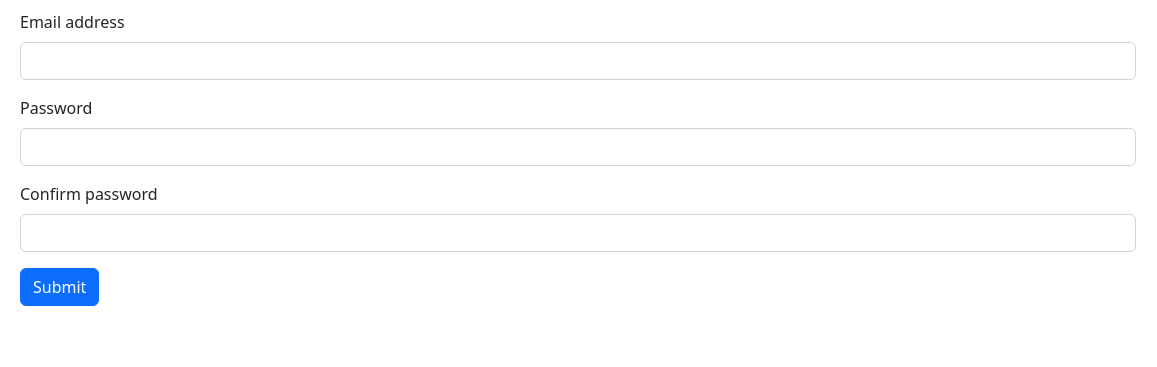
Scenario: App › error handling › should show error message on invalid password
Type "test@test.com" into the field labelled "Email address".
click(578, 61); type("test@test.com")  # box [20,42,1136,80]
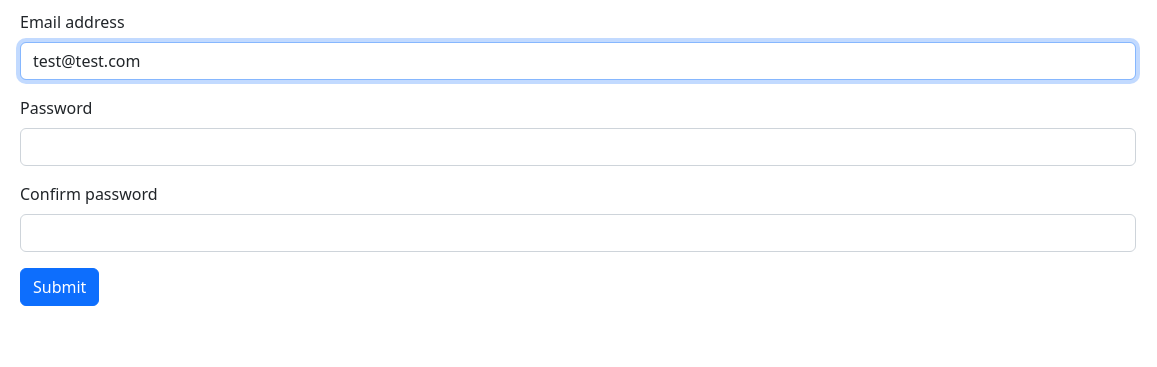
Type "four" into the password field labelled "Password".
click(578, 147); type("four")  # box [20,128,1136,166]
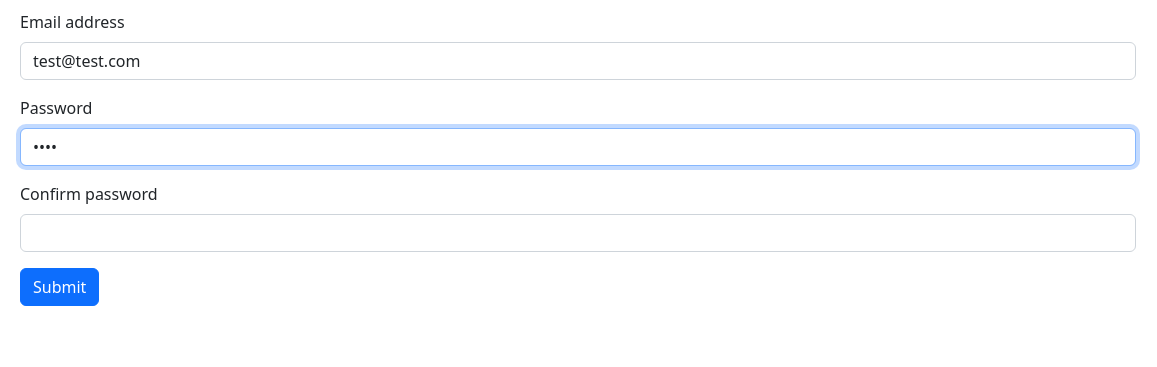
Click the button "Submit".
click(60, 287)  # box [20,268,99,306]
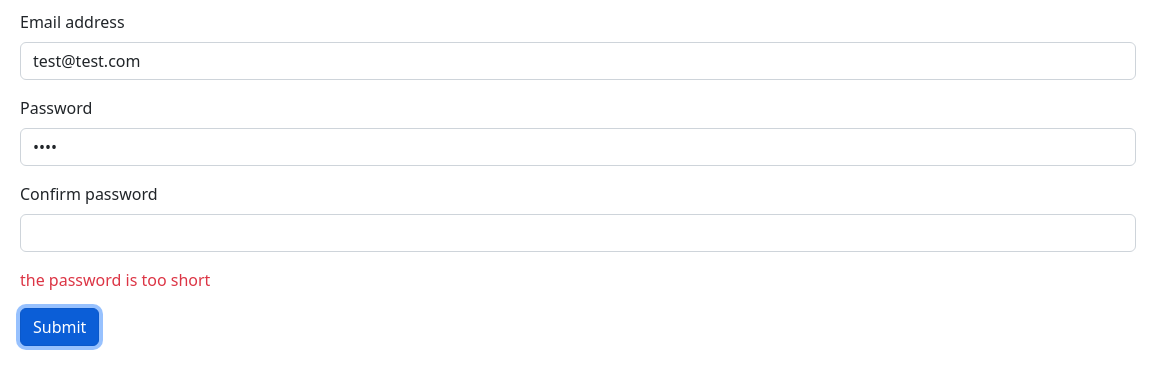
Now the text "the password is too short" is shown, box [20,269,210,291]
